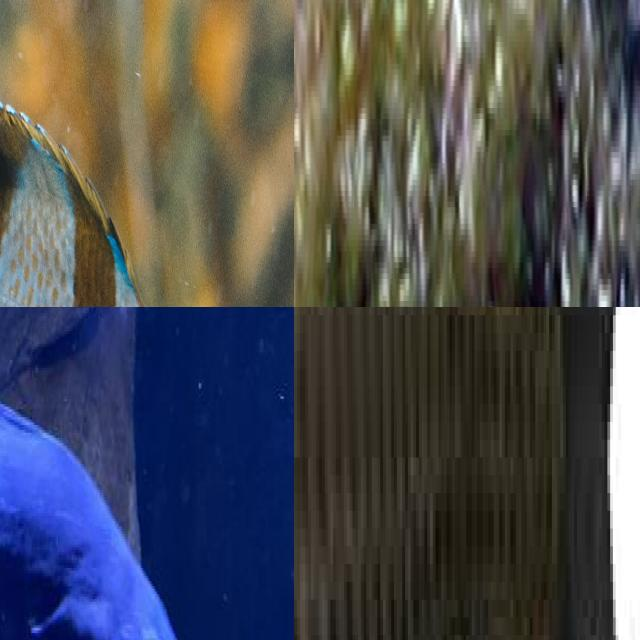fish: (294, 307, 640, 640), (0, 0, 294, 307), (294, 0, 583, 229), (0, 315, 201, 640)
